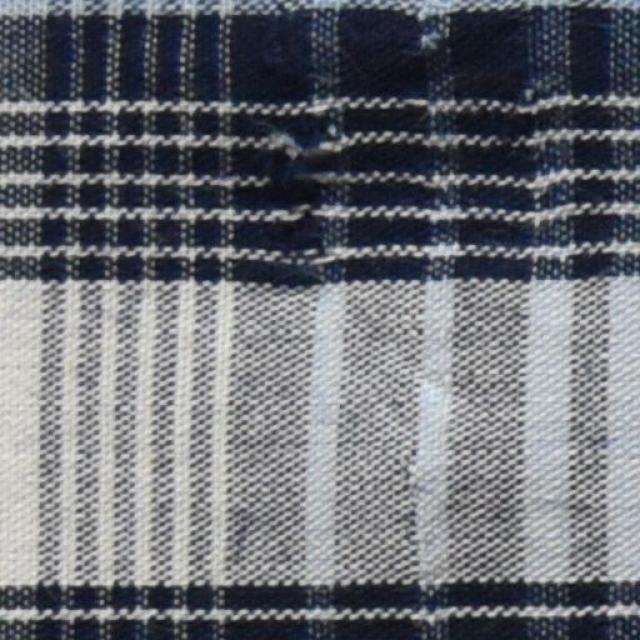Snag: (252, 85, 368, 214), (387, 0, 472, 70)
